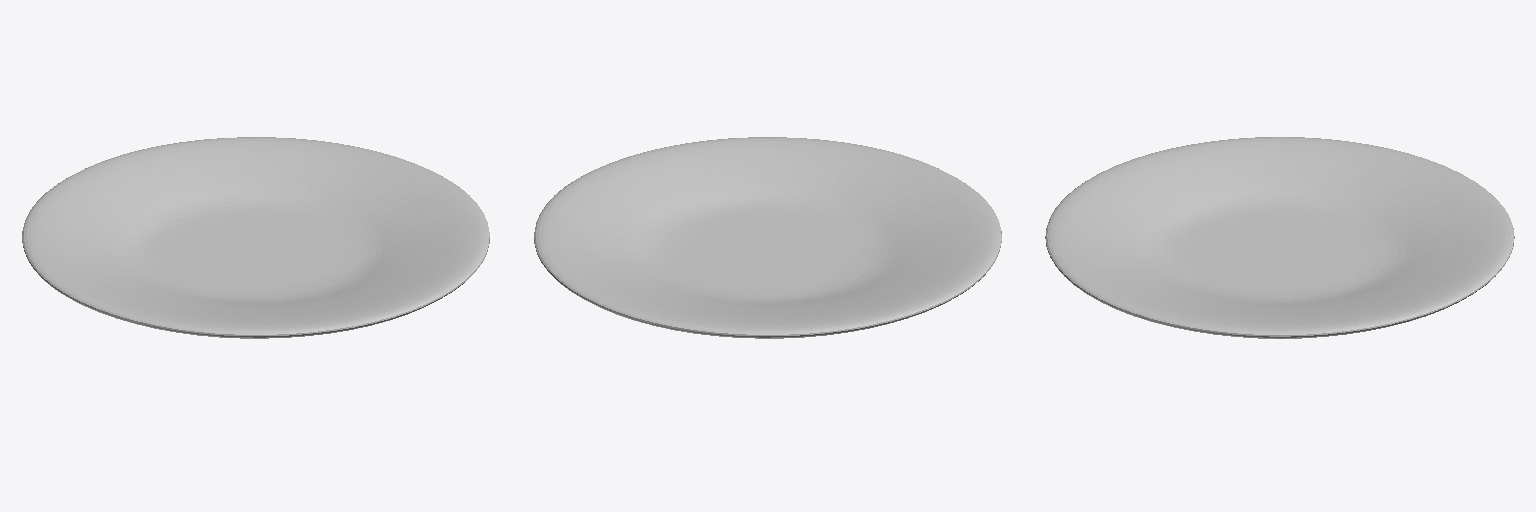
The model's file is SMS Simple Plate.obj.
3 views of the same model, side by side, from view 1: azimuth 30°, elevation 25°; view 2: azimuth 150°, elevation 25°; view 3: azimuth 270°, elevation 25° (orthographic).
Parts seen in each view (by area): view 1: SMS_Simple_Plate_-_High; view 2: SMS_Simple_Plate_-_High; view 3: SMS_Simple_Plate_-_High.
Part boxes in pixels (bbox=[...]): SMS_Simple_Plate_-_High: bbox=[22, 137, 489, 338]; SMS_Simple_Plate_-_High: bbox=[534, 137, 1001, 338]; SMS_Simple_Plate_-_High: bbox=[1045, 137, 1514, 338].
Bounding box in the file's own units: 0.1553 × 0.0159 × 0.1553.